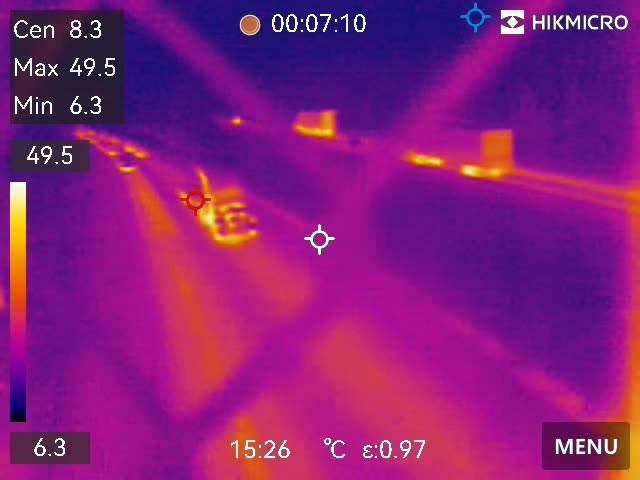heavyTruck: (177, 171, 266, 242), (400, 124, 521, 176), (292, 109, 339, 135)
